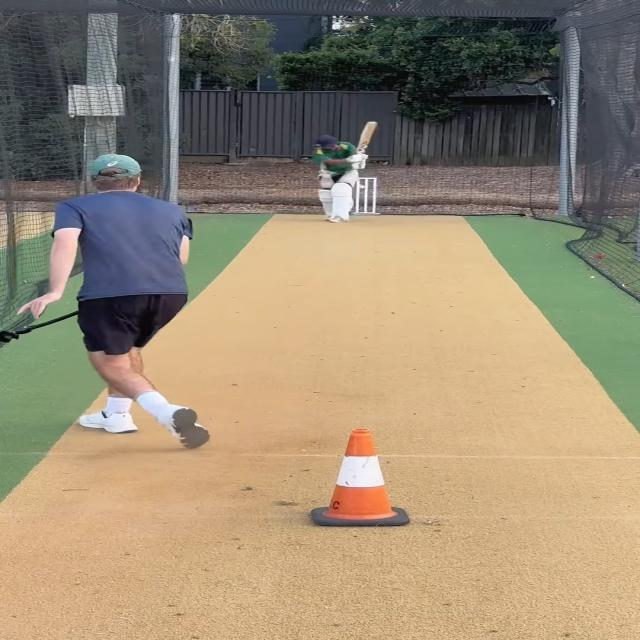ball: (358, 184, 368, 190)
stump: (354, 178, 377, 218)
